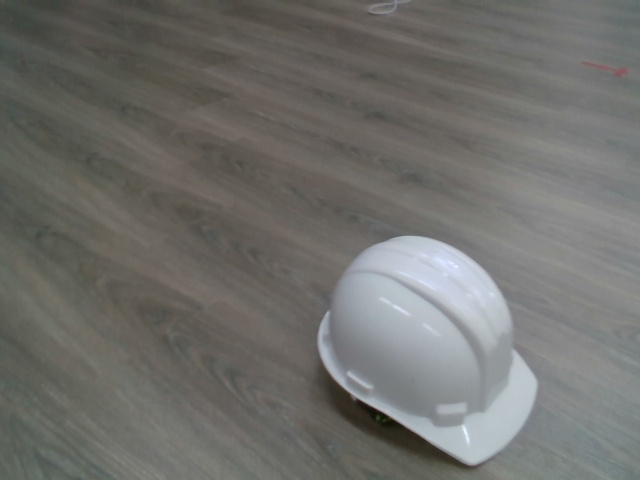helmet: (310, 230, 547, 472)
